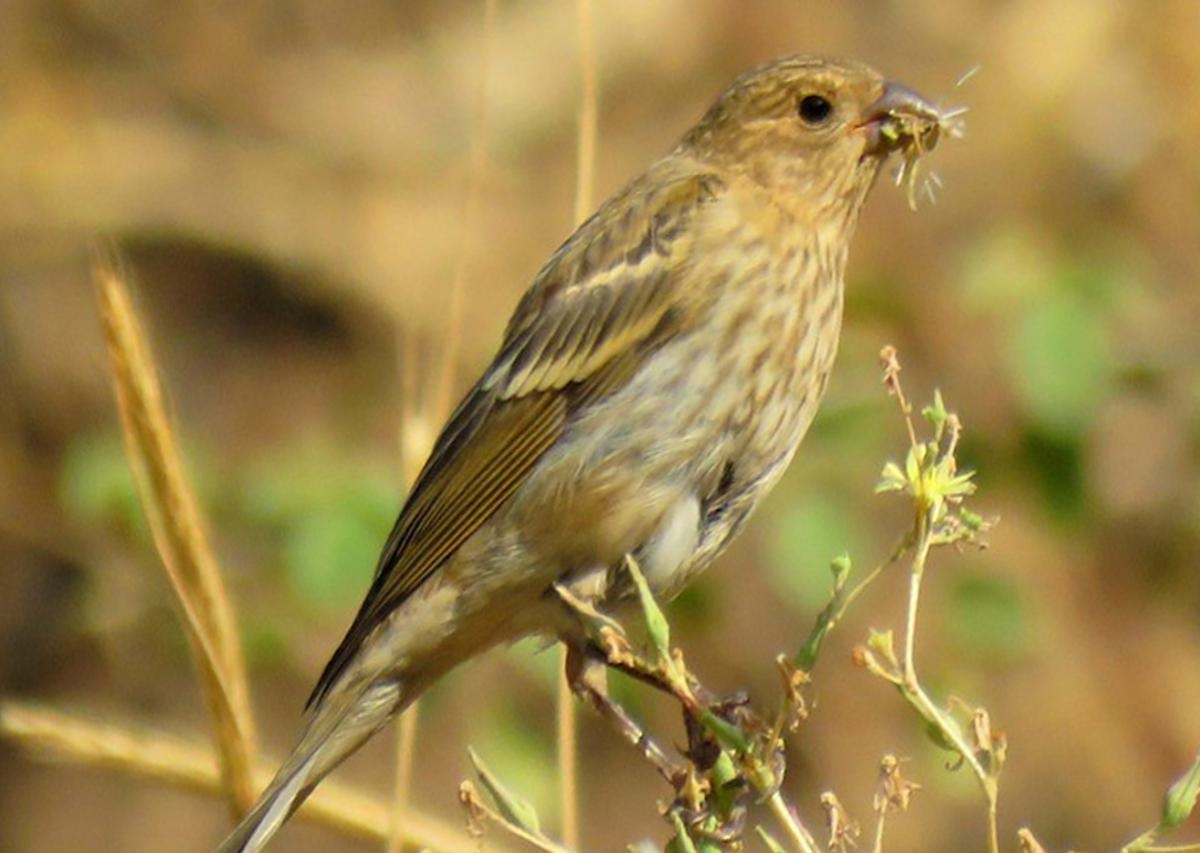rosefinch: (308, 48, 979, 766)
